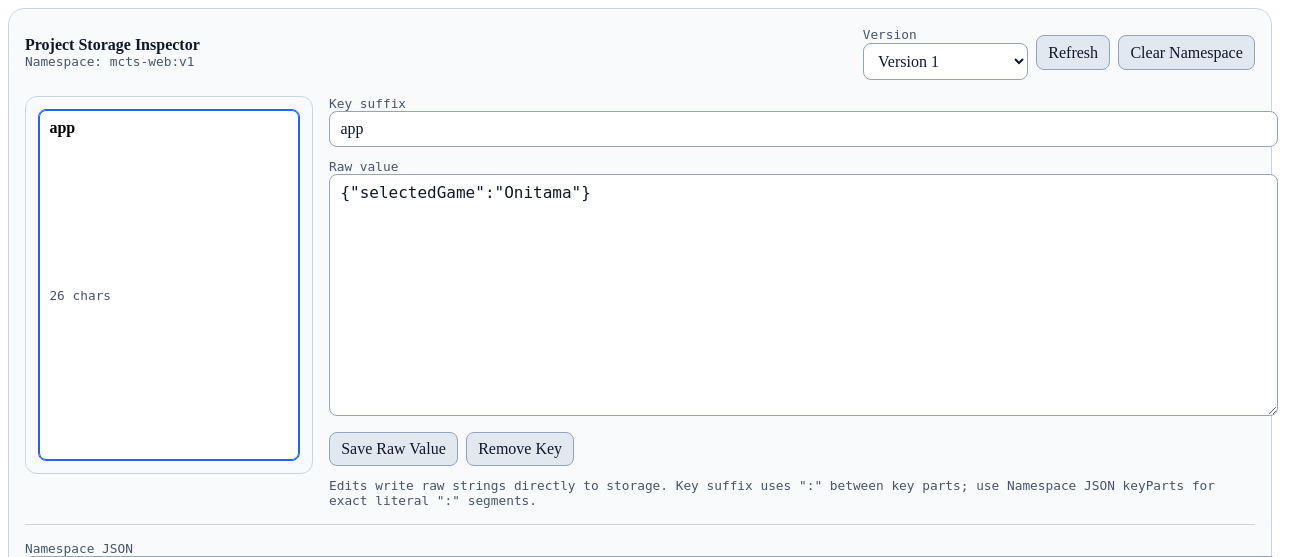
Test: ProjectStorageInspector › switches versions on the fly
This screenshot has width=1292, height=557.
Check: the text box showing "{\"selectedGame\":\"Onitama\"}" is shown, box [329, 174, 1278, 416]
Select "Version 2" in the dropdown named "Storage version" at (945, 62), box [863, 43, 1028, 80]
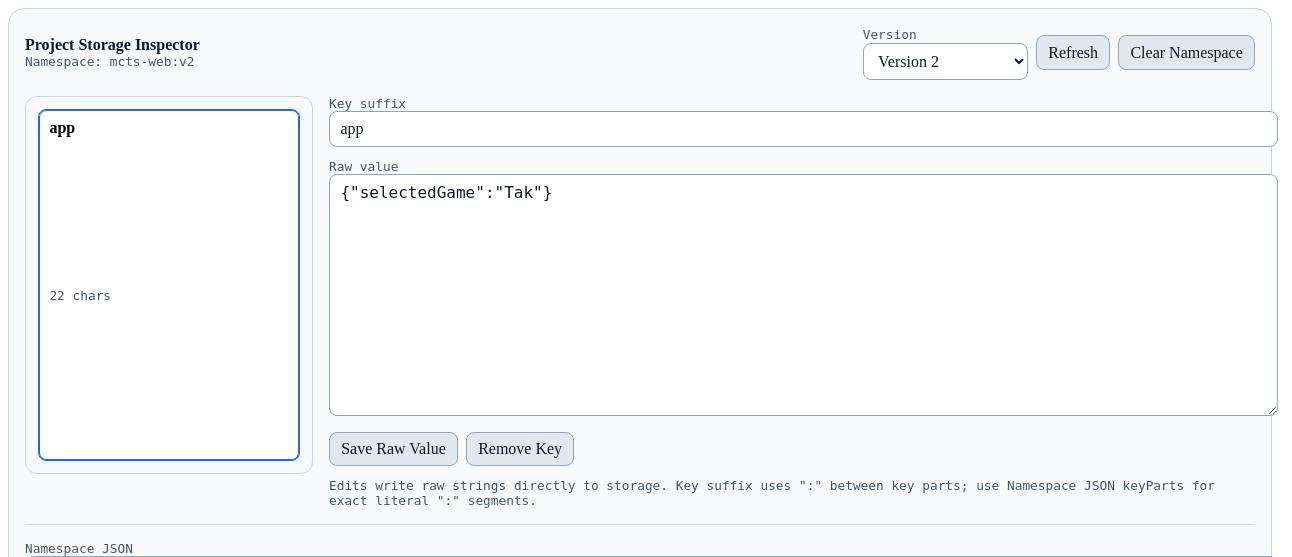
Check: the text "Namespace: mcts-web:v2" is shown, box [25, 54, 200, 69]
Check: the text box showing "{\"selectedGame\":\"Tak\"}" is shown, box [329, 174, 1278, 416]
